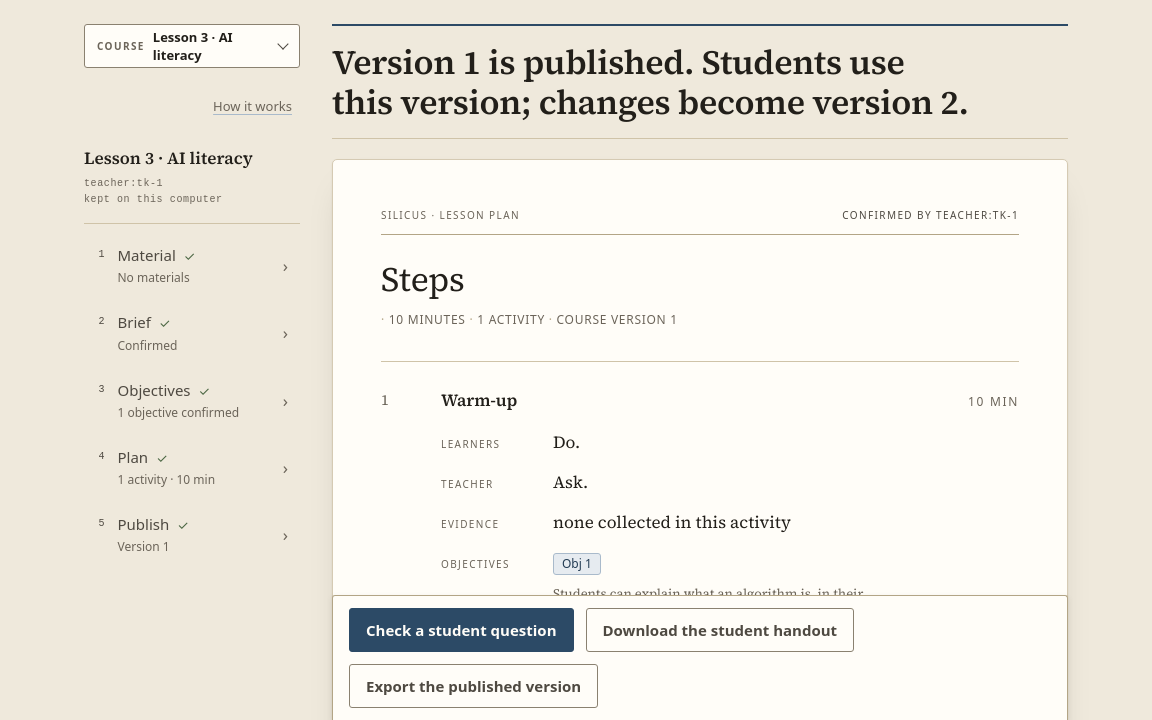
it: LiveCourse — thin client of the host › offers a student handout once published, built from the sealed version
Click the button "Download the student handout".
click(720, 630)  # box [586,608,854,652]
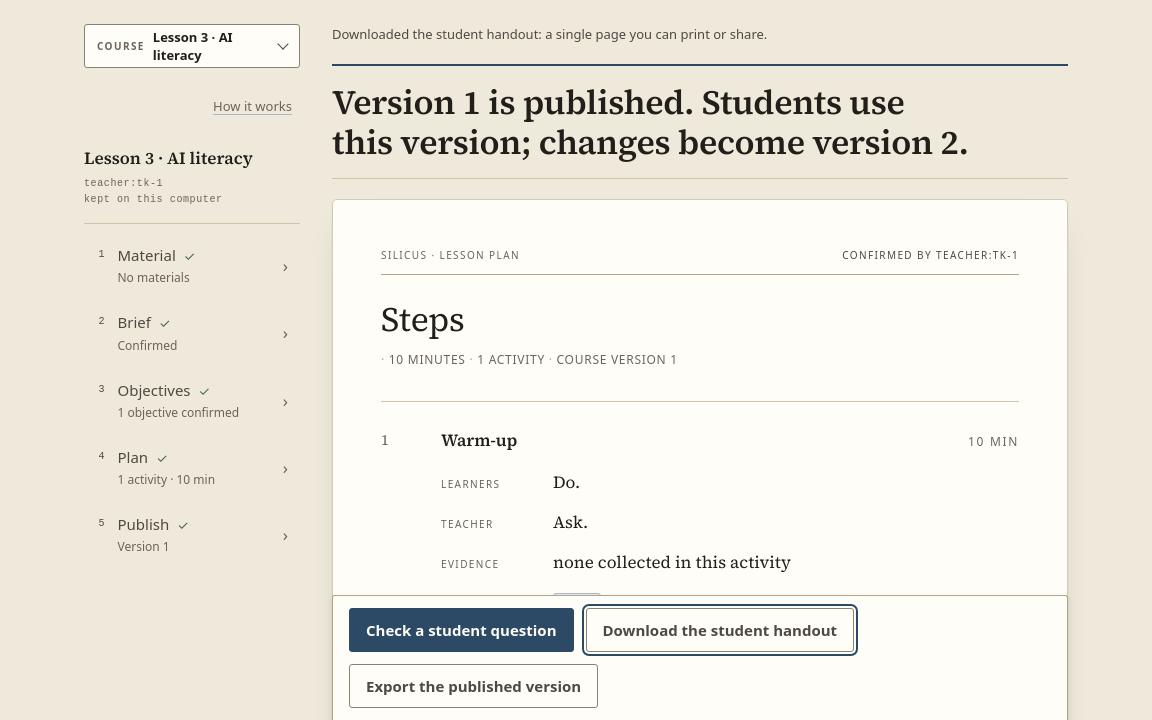
Expected: the text "Downloaded the student handout: a single page you can print or share." is shown, [332,25,767,43]
